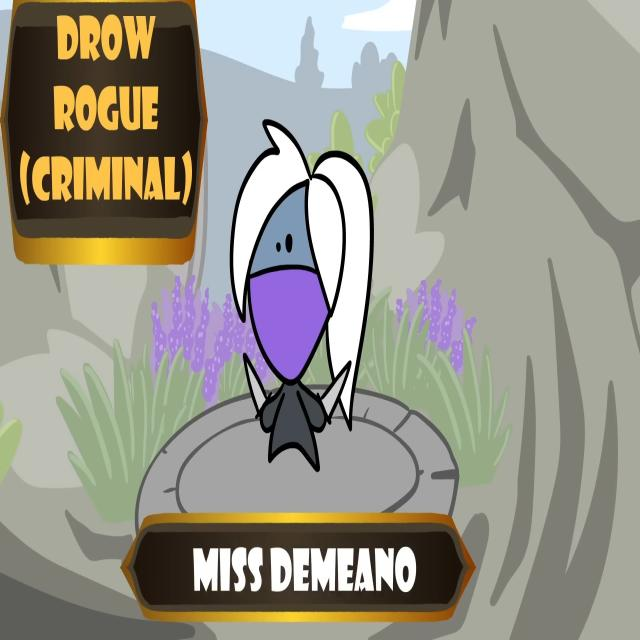miss Demeanor: (226, 114, 377, 478)
